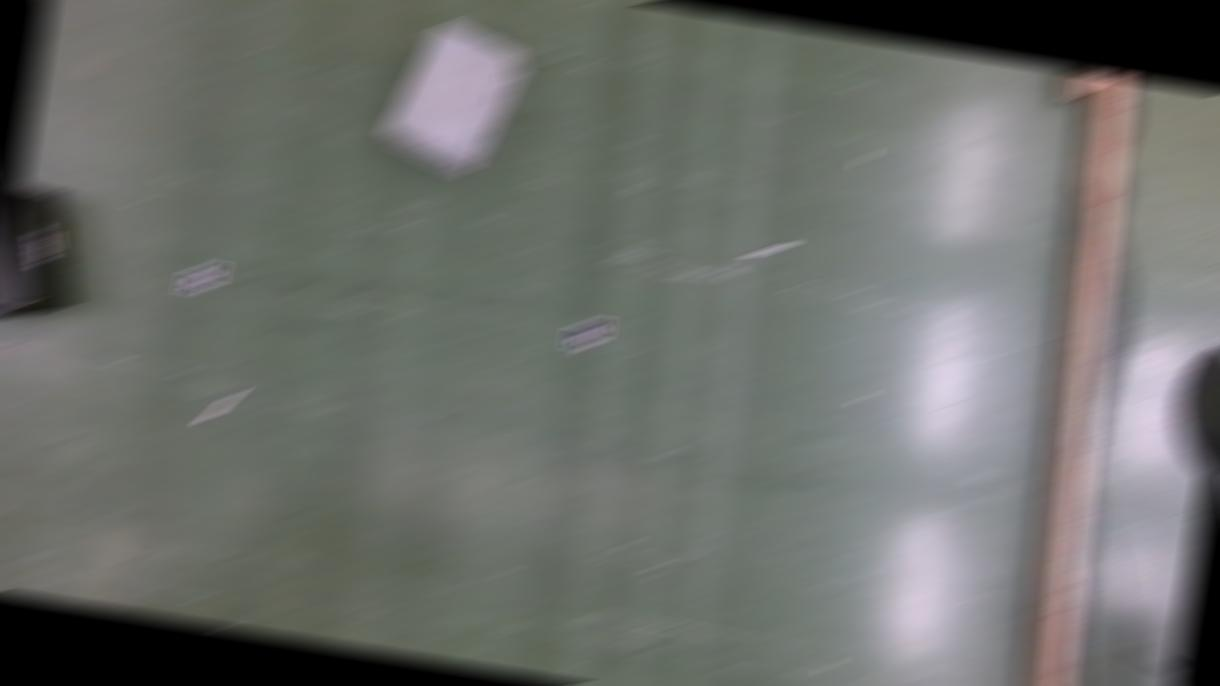probes: (198, 387, 242, 424), (745, 240, 792, 257)
rako: (376, 16, 532, 182), (0, 183, 92, 328)
